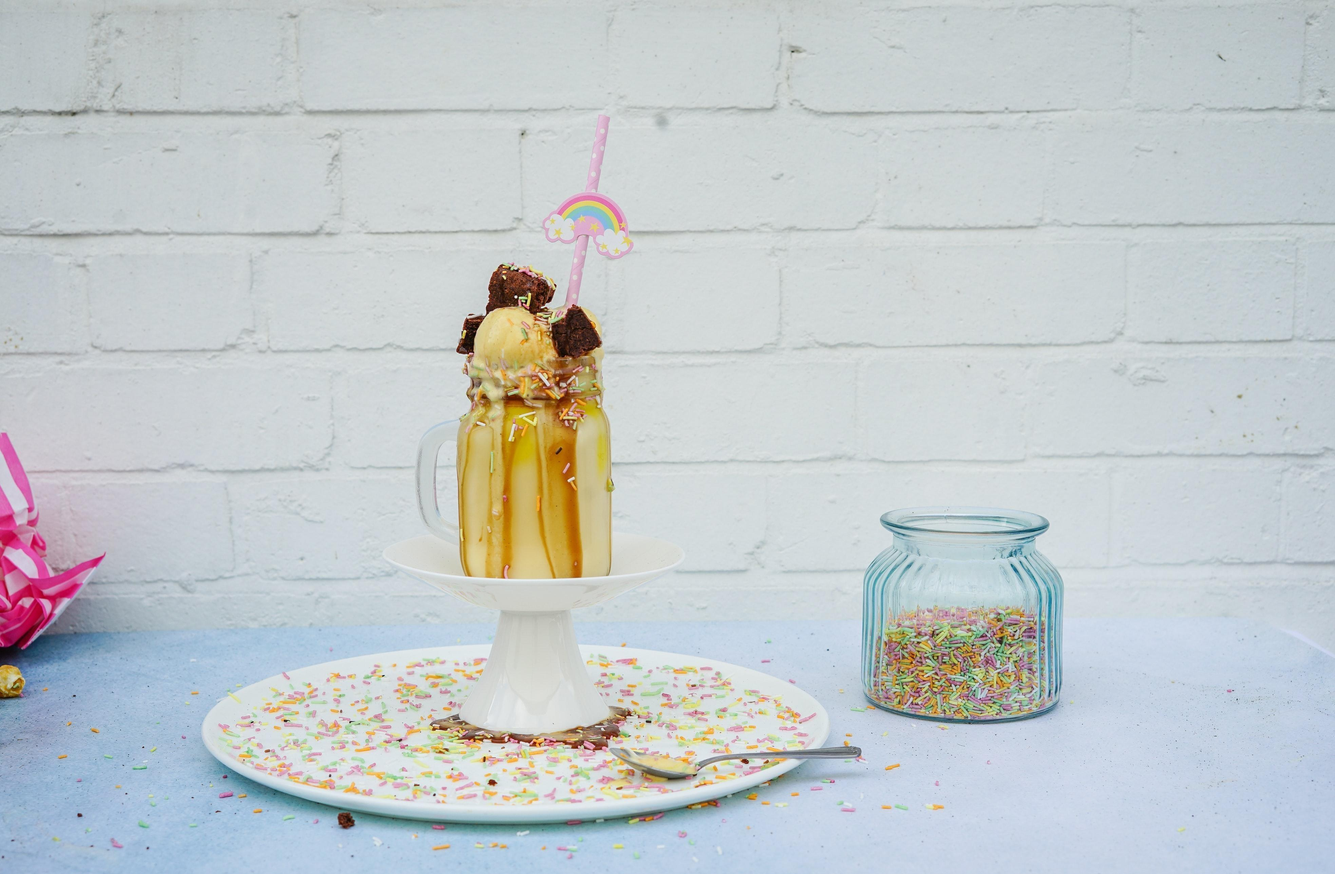glass-mug: (414, 321, 617, 582)
